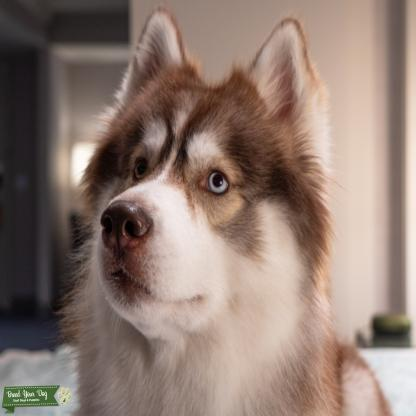husky: (78, 24, 389, 416)
